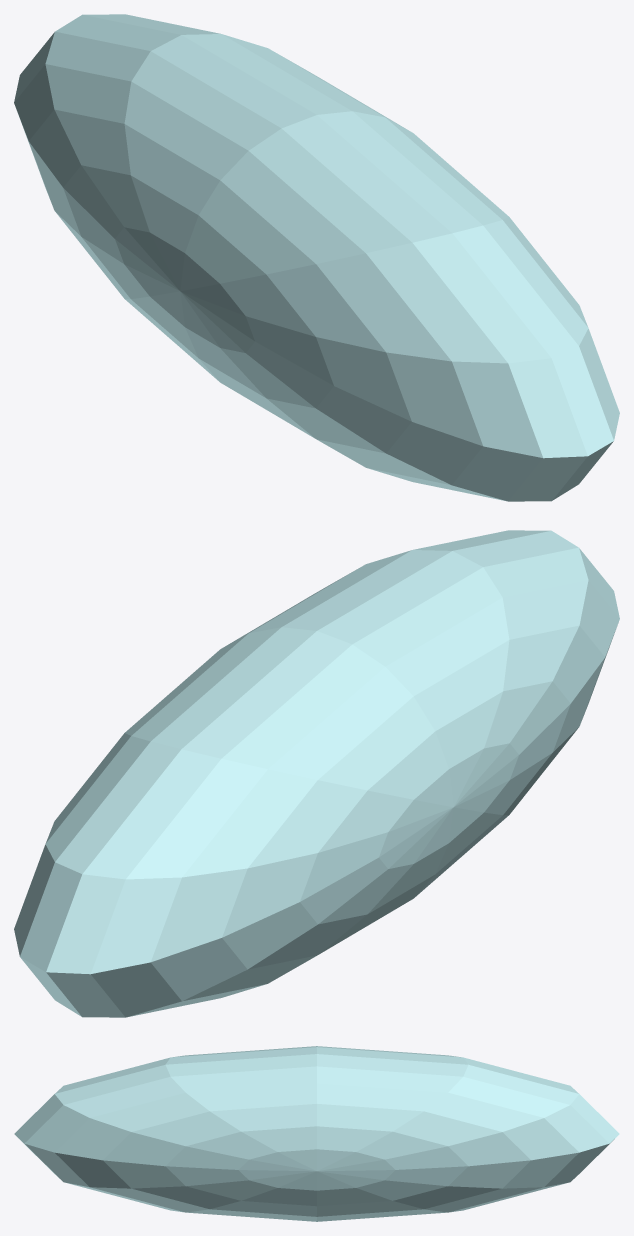
Rendered from bullet.obj.
The picture shows the model from 3 angles, top to bottom: view 1: azimuth 30°, elevation 25°; view 2: azimuth 150°, elevation 25°; view 3: azimuth 270°, elevation 25°; orthographic projection. The views are drawn at different scales.
Visible parts, largest first — view 1: Sphere; view 2: Sphere; view 3: Sphere.
Boxes of the visible parts, box(x1,y1,x2,y2) form: Sphere: box(14, 14, 619, 501); Sphere: box(14, 530, 619, 1017); Sphere: box(14, 1046, 619, 1221).
Size of the model in its own units: 0.1088 by 0.1088 by 0.3734.
1 material, 1 textured.
